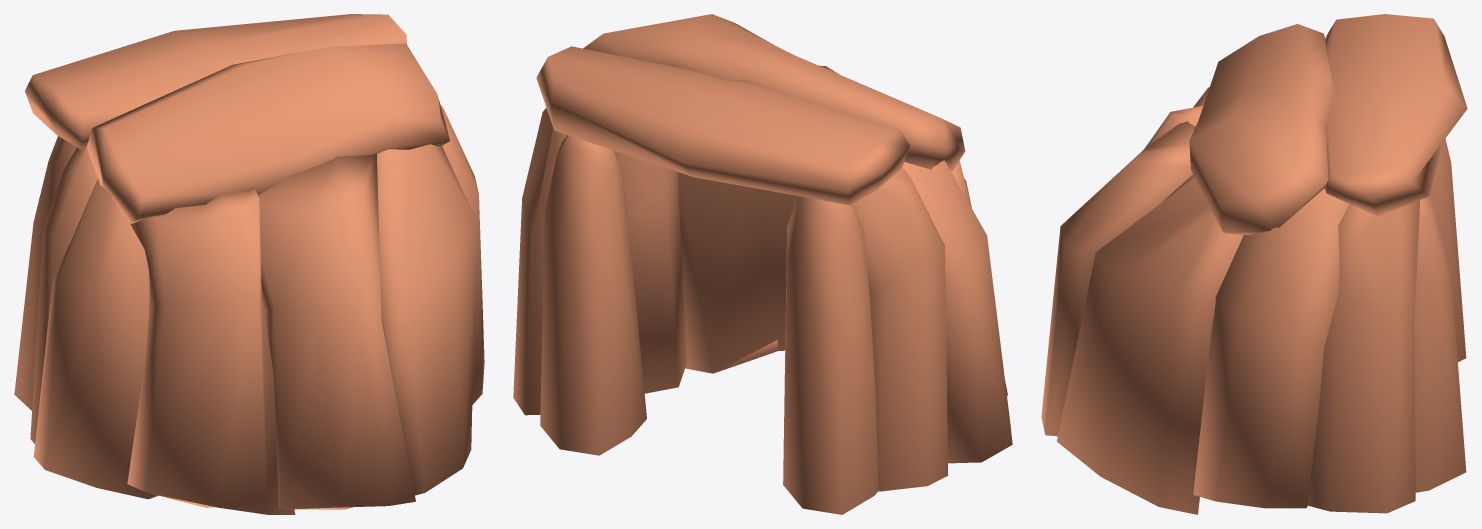
The model's file is CaveSpawn.fbx.
3 views of the same model, side by side, from view 1: azimuth 30°, elevation 25°; view 2: azimuth 150°, elevation 25°; view 3: azimuth 270°, elevation 25° (orthographic). The views are drawn at different scales.
Visible parts, largest first — view 1: Cube.011, Cube.010, Cube.008, Cube.009, Cube.007, Cube.002, Cube.004, Cube.001, Cube.003; view 2: Cube.002, Cube, Cube.001, Cube.004, Cube.009, Cube.008, Cube.007, Cube.003, Cube.006; view 3: Cube.009, Cube.003, Cube.006, Cube.008, Cube.002, Cube.011, Cube, Cube.001, Cube.010.
Boxes of the visible parts, <box> form: Cube.011: <box>258,153,415,509</box>; Cube.010: <box>127,186,295,514</box>; Cube.008: <box>86,43,449,223</box>; Cube.009: <box>377,144,476,495</box>; Cube.007: <box>33,179,157,499</box>; Cube.002: <box>25,14,406,149</box>; Cube.004: <box>30,147,97,443</box>; Cube.001: <box>14,136,76,410</box>; Cube.003: <box>440,105,484,404</box>; Cube.002: <box>536,46,909,205</box>; Cube: <box>540,135,646,455</box>; Cube.001: <box>783,196,878,514</box>; Cube.004: <box>854,167,948,491</box>; Cube.009: <box>677,172,797,373</box>; Cube.008: <box>583,14,965,170</box>; Cube.007: <box>902,160,1012,463</box>; Cube.003: <box>615,151,686,393</box>; Cube.006: <box>513,108,626,415</box>; Cube.009: <box>1057,175,1243,514</box>; Cube.003: <box>1193,188,1349,508</box>; Cube.006: <box>1308,200,1419,513</box>; Cube.008: <box>1189,24,1335,234</box>; Cube.002: <box>1325,14,1467,215</box>; Cube.011: <box>1041,121,1195,436</box>; Cube: <box>1414,194,1466,492</box>; Cube.001: <box>1430,138,1466,361</box>; Cube.010: <box>1145,87,1209,147</box>.
Size of the model in its own units: 1202 by 988 by 1011.
